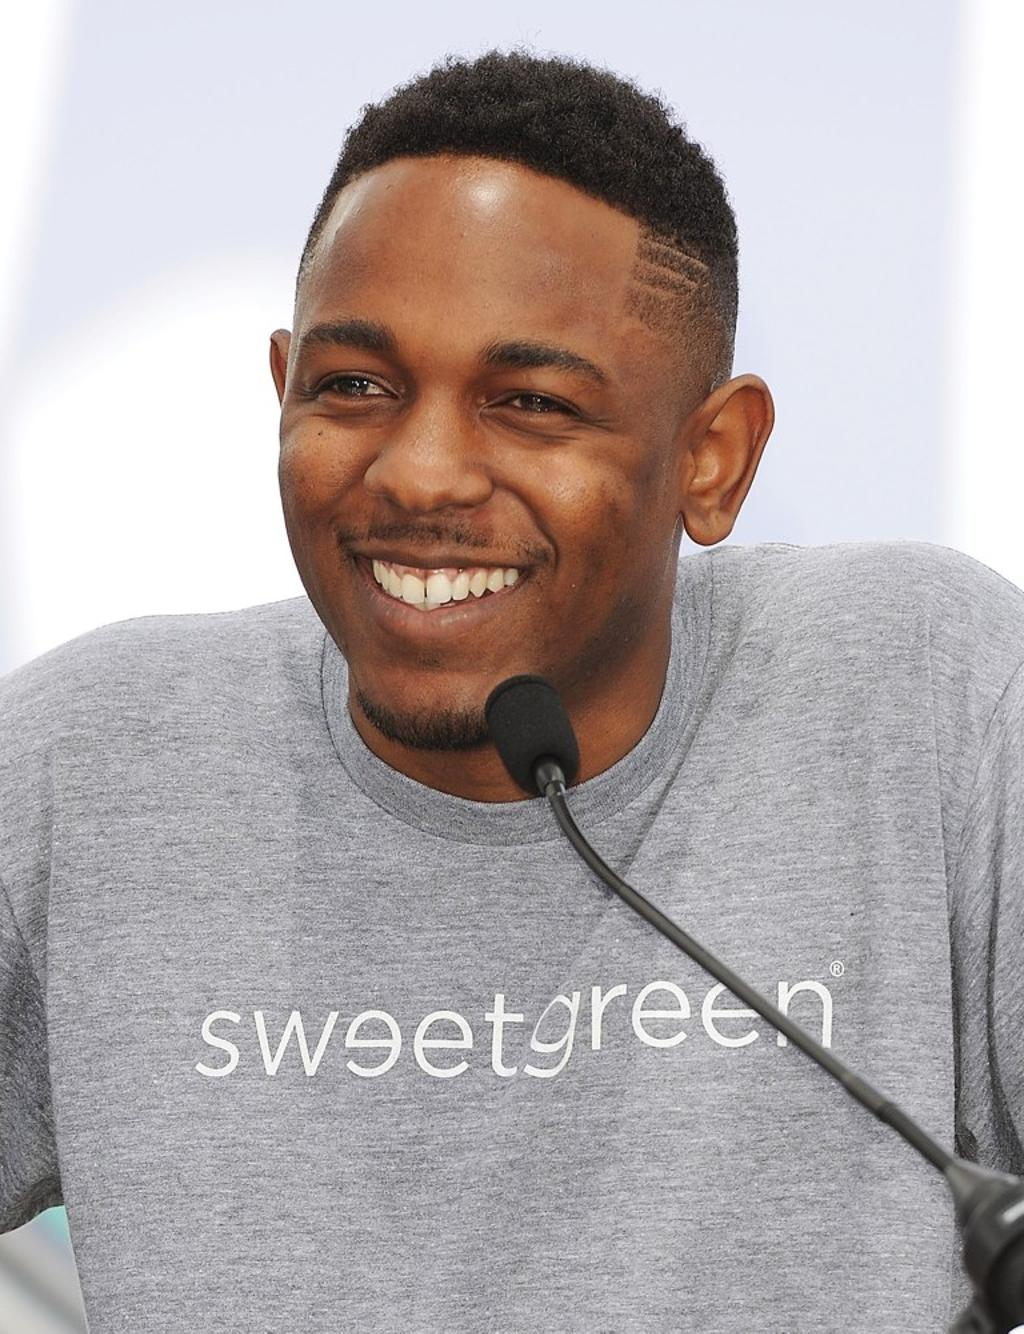face: (281, 167, 680, 740)
